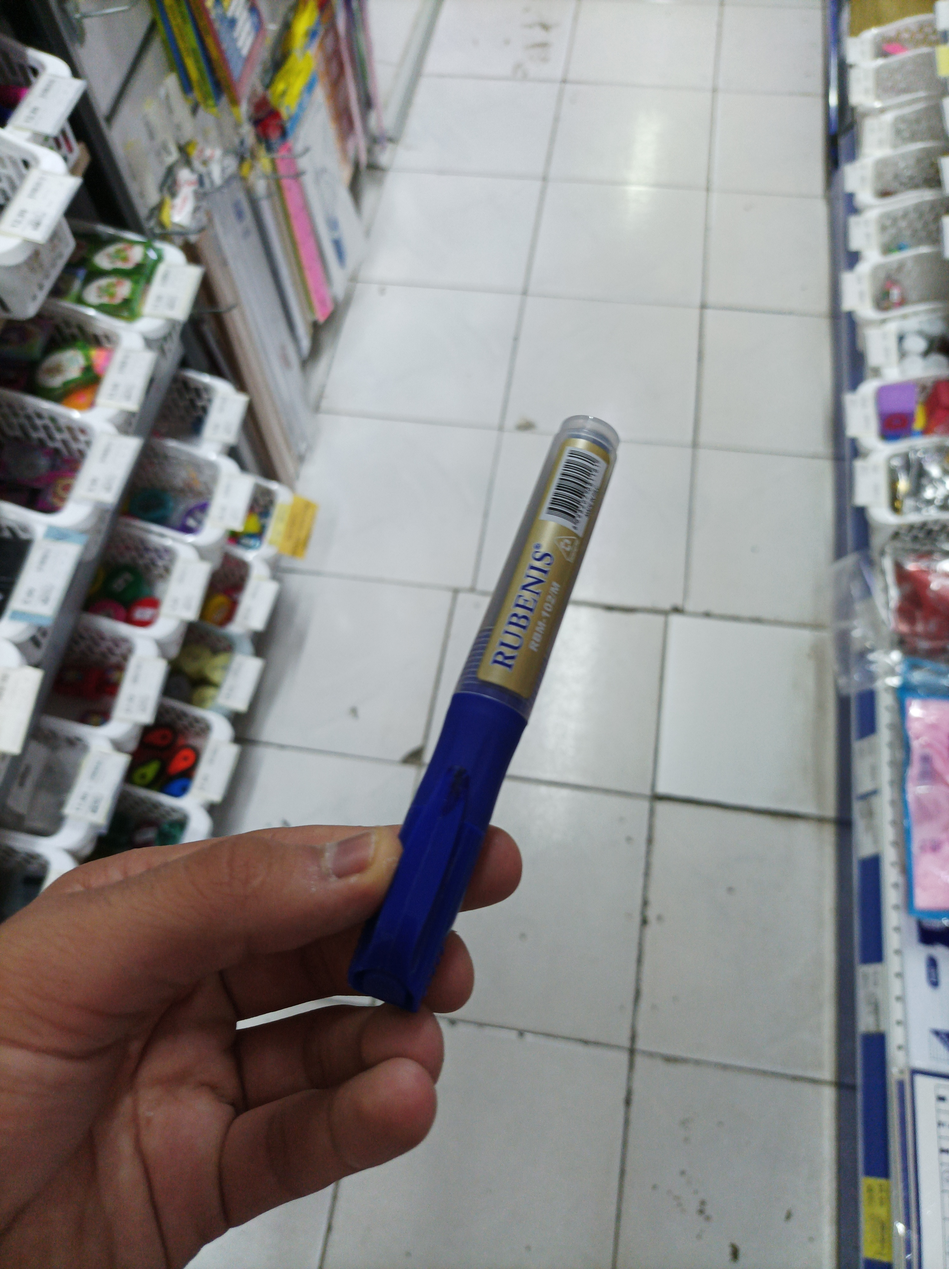plastic: (346, 419, 632, 1018)
